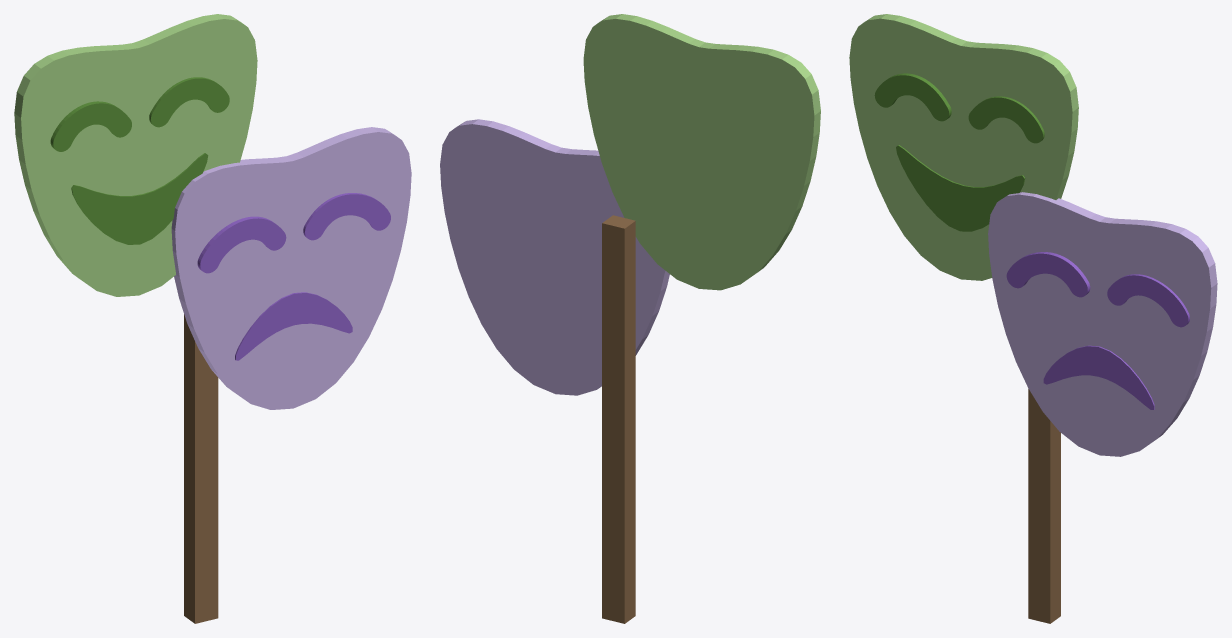
The model's file is theatre.glb.
3 views of the same model, side by side, from view 1: azimuth 30°, elevation 25°; view 2: azimuth 150°, elevation 25°; view 3: azimuth 330°, elevation 25° (orthographic). The views are drawn at different scales.
Bounding box in the file's own units: 1 × 1.5 × 0.113.
